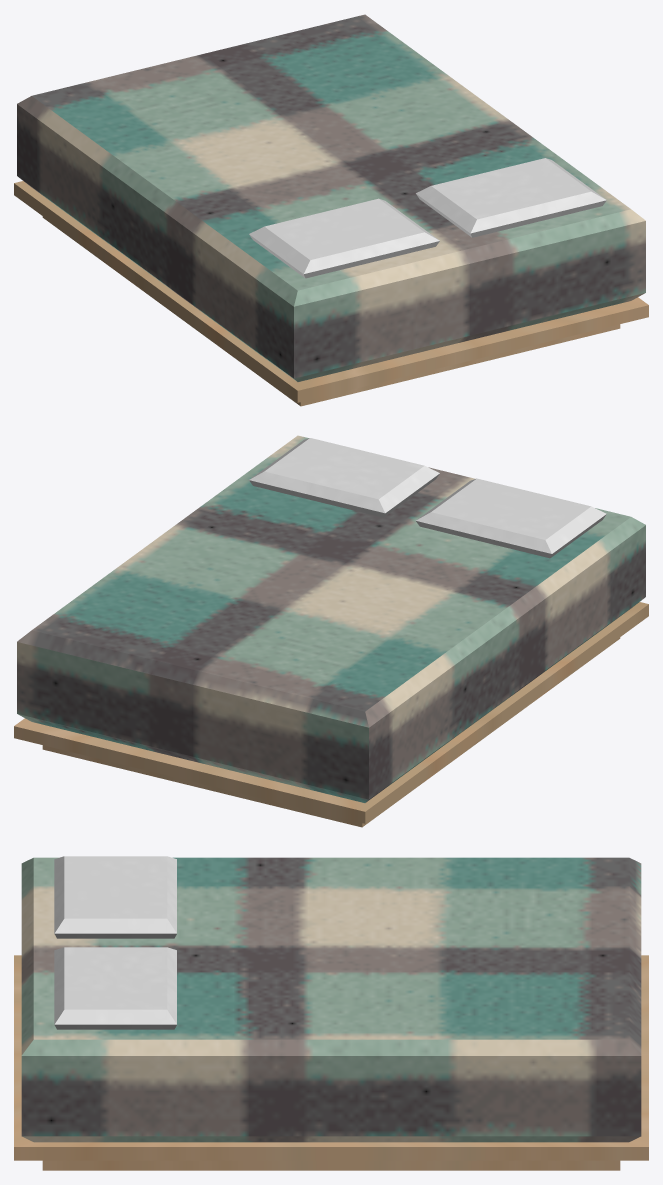
File: Bedroom_Bed.fbx
3 renders of one model, top to bottom at view 1: azimuth 30°, elevation 25°; view 2: azimuth 150°, elevation 25°; view 3: azimuth 270°, elevation 25°, orthographic. The views are drawn at different scales.
Visible parts, largest first — view 1: Cube; view 2: Cube; view 3: Cube.
Part boxes in pixels (x1=…): Cube: x1=14, y1=14, x2=648, y2=406; Cube: x1=14, y1=435, x2=648, y2=827; Cube: x1=14, y1=856, x2=648, y2=1170.
Size of the model in its own units: 184 by 66.99 by 256.
